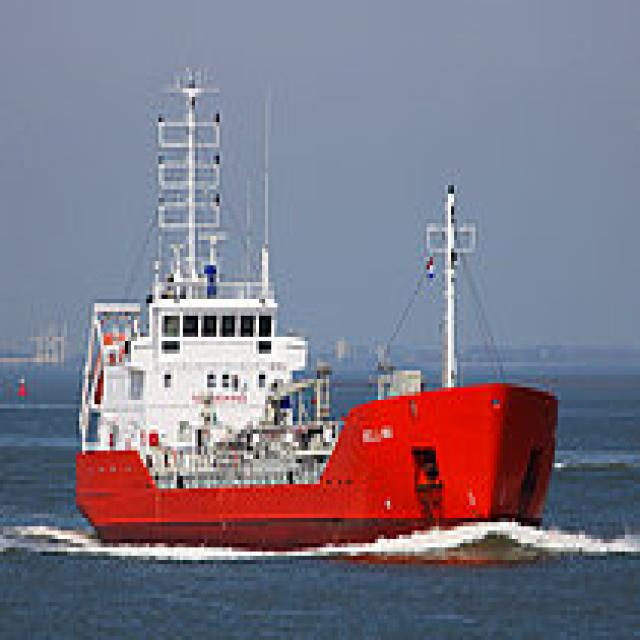Tanker: (70, 55, 558, 543)
